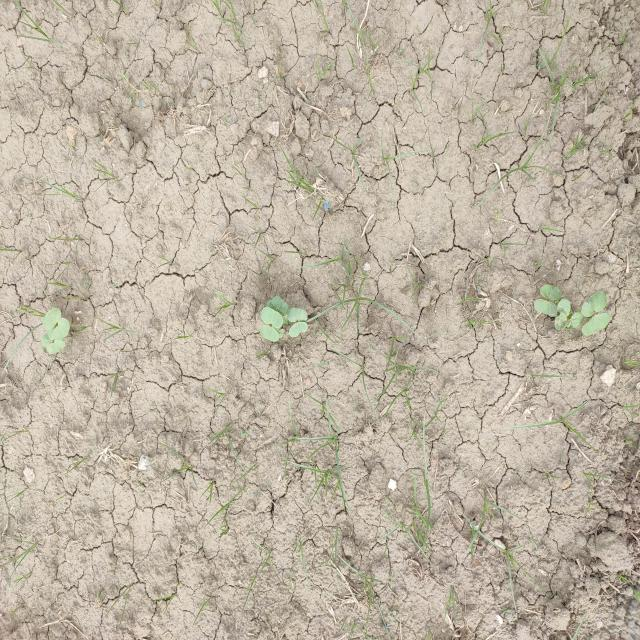seedling: (581, 313, 611, 336), (581, 291, 607, 317), (554, 299, 571, 330), (261, 307, 283, 329), (534, 299, 558, 317), (43, 308, 61, 330), (53, 318, 70, 340), (565, 311, 584, 330), (540, 284, 561, 301), (260, 324, 279, 342), (288, 307, 308, 322), (46, 339, 65, 354), (289, 322, 308, 337), (272, 296, 288, 313), (42, 328, 55, 347), (282, 314, 291, 325)
